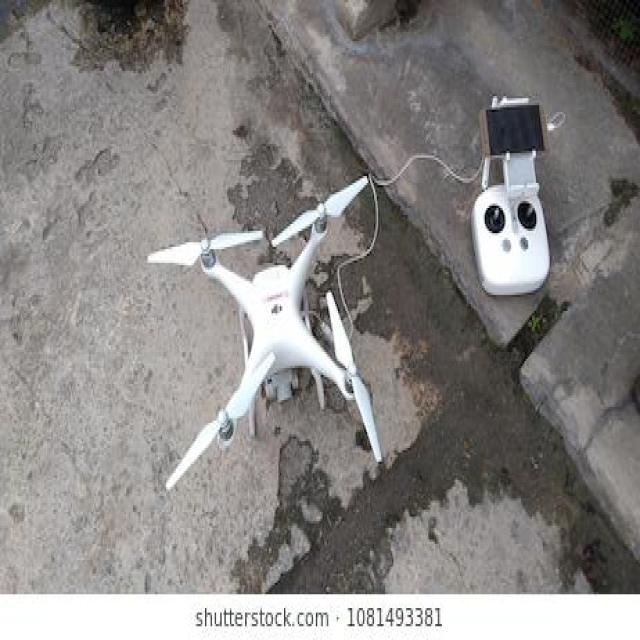drone: (130, 178, 422, 492)
